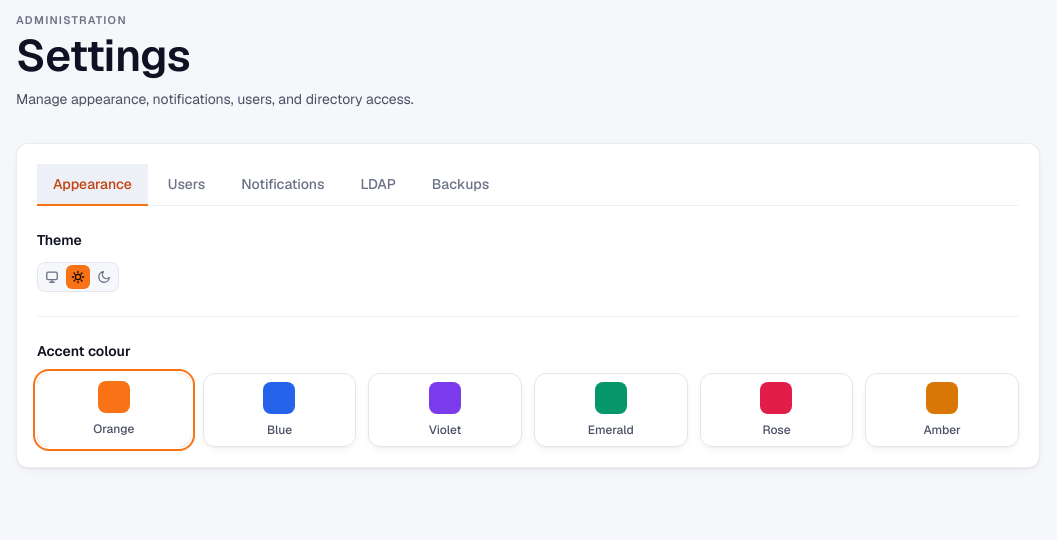
Test: SettingsPage › restores prior accent and shows error when accent save fails
Click the radio button labelled "Violet": (445, 410) [368,373,522,447]
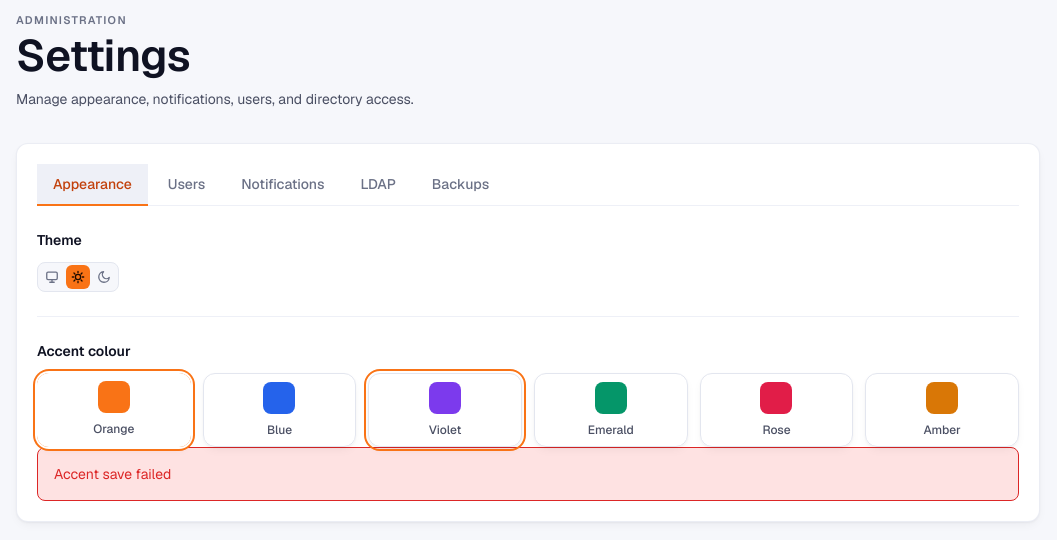
Check: the message reads "Accent save failed", box [54,465,171,483]
